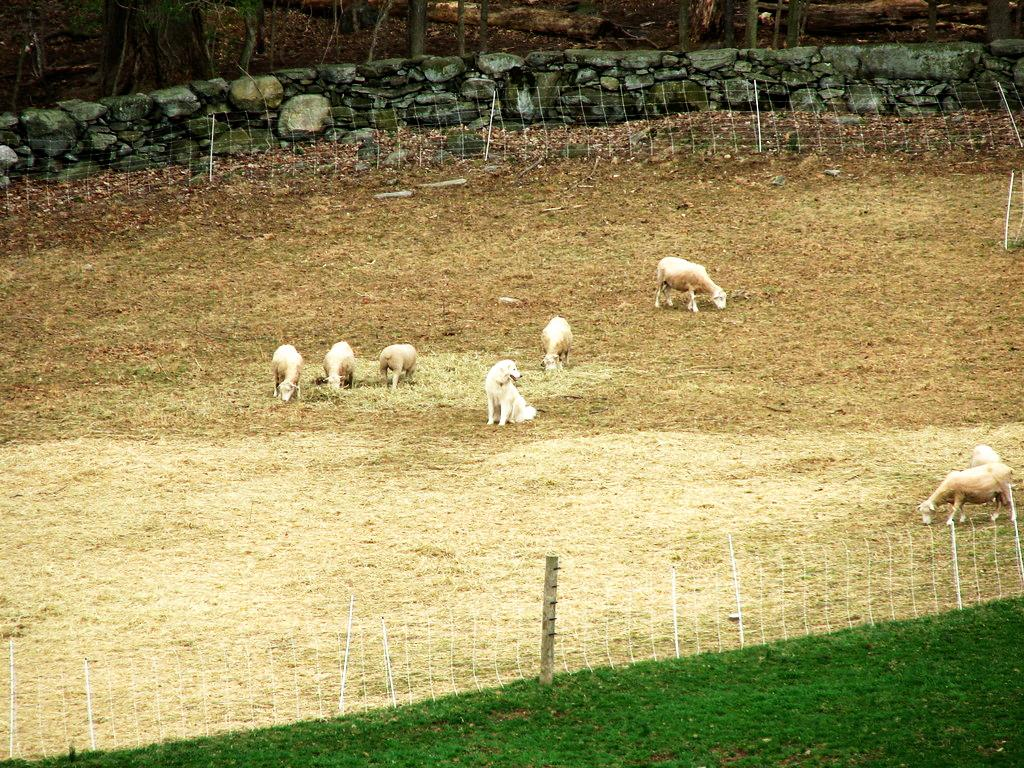Sheep: (920, 464, 1019, 528), (654, 258, 728, 310), (973, 445, 1016, 506), (270, 344, 304, 403), (539, 316, 573, 374), (323, 341, 355, 397), (379, 346, 419, 388)
